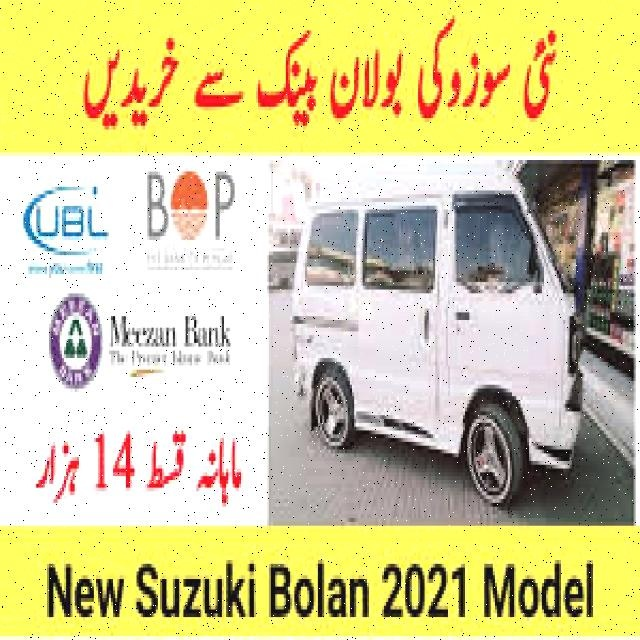Van: (294, 175, 584, 510)
